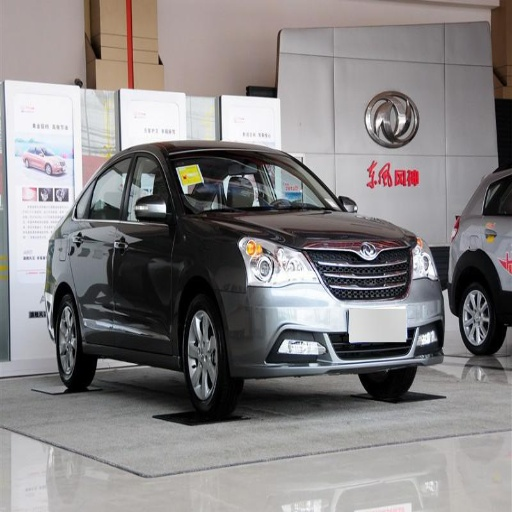front_bumper: (222, 238, 447, 377)
front_right_door: (114, 150, 174, 344)
front_right_light: (238, 233, 315, 286)
